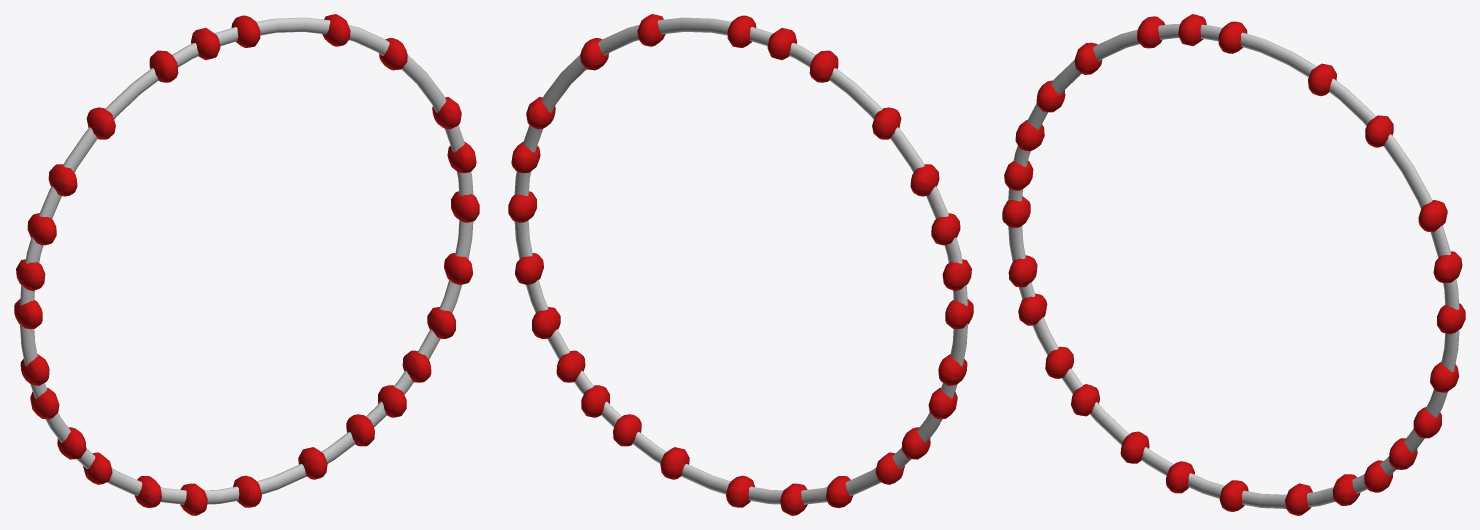
The picture shows the model from 3 angles, left to right: view 1: azimuth 30°, elevation 25°; view 2: azimuth 150°, elevation 25°; view 3: azimuth 330°, elevation 25°; orthographic projection.
Visible parts, largest first — view 1: Electron_Mball, Ring_Torus; view 2: Electron_Mball, Ring_Torus; view 3: Electron_Mball, Ring_Torus.
Part boxes in pixels (left/top/right/bottom): Electron_Mball: left=14, top=14, right=479, bottom=515; Ring_Torus: left=20, top=17, right=473, bottom=504; Electron_Mball: left=508, top=14, right=973, bottom=515; Ring_Torus: left=514, top=17, right=967, bottom=504; Electron_Mball: left=1002, top=14, right=1465, bottom=515; Ring_Torus: left=1008, top=24, right=1459, bottom=508.
Bounding box in the file's own units: 2.91 × 2.96 × 0.2136.
